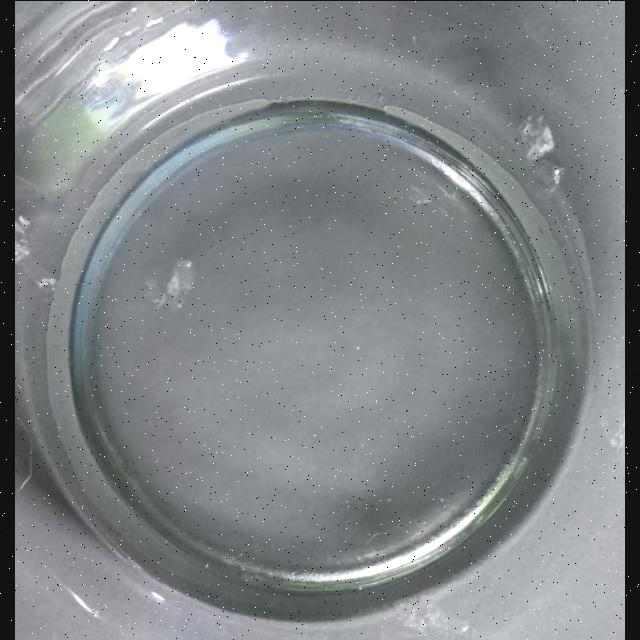Fibre: (515, 114, 567, 196)
